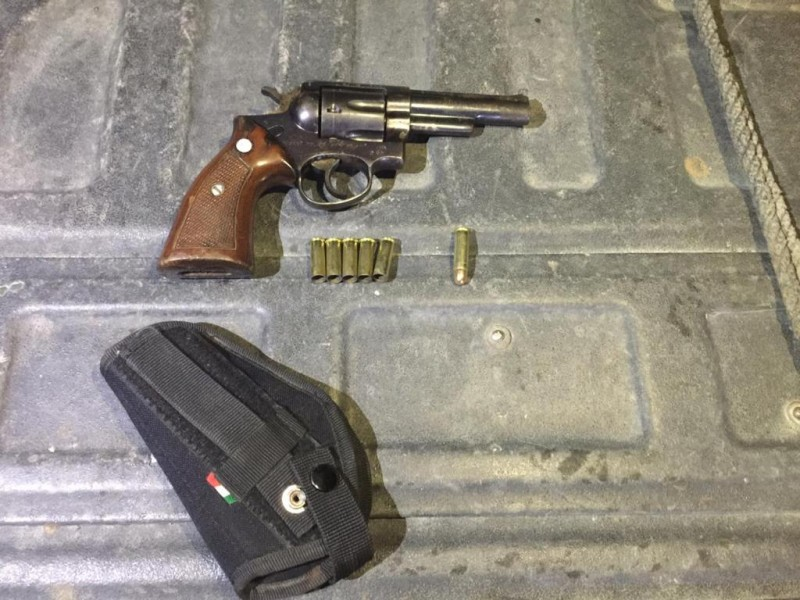Arma Real: (157, 74, 529, 274)
